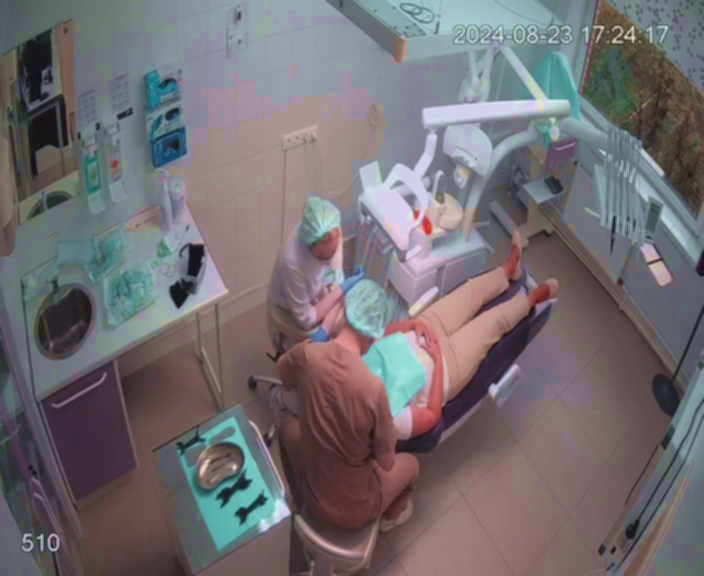Patient: (306, 230, 559, 453)
